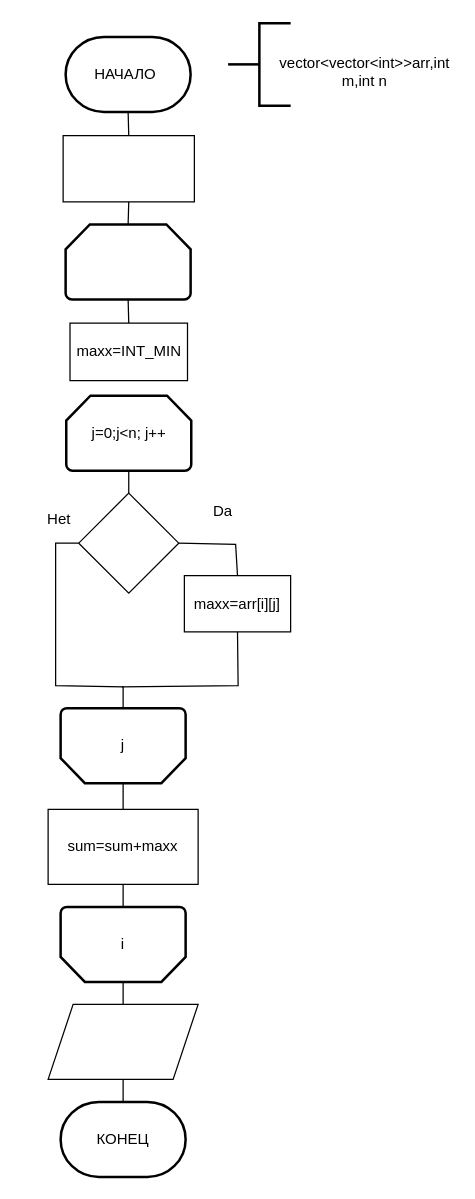
Some shapes in this 475 by 1199 pixel diagram are drawn without their labels. The centre of each missing label's shape, as x and y in pixels:
arr[i][j]>maxx: point 128,542
i=0;i<m; i++: point 127,261
sum: point 122,1041
sum=0: point 128,168
